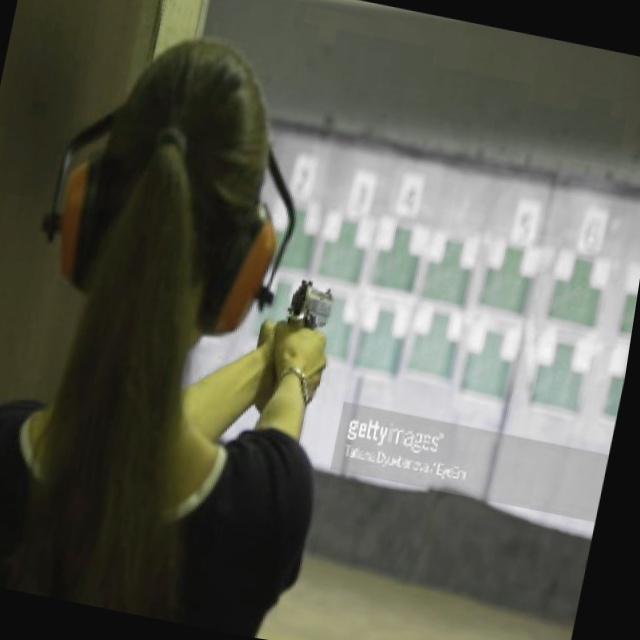gun: (281, 271, 341, 340)
